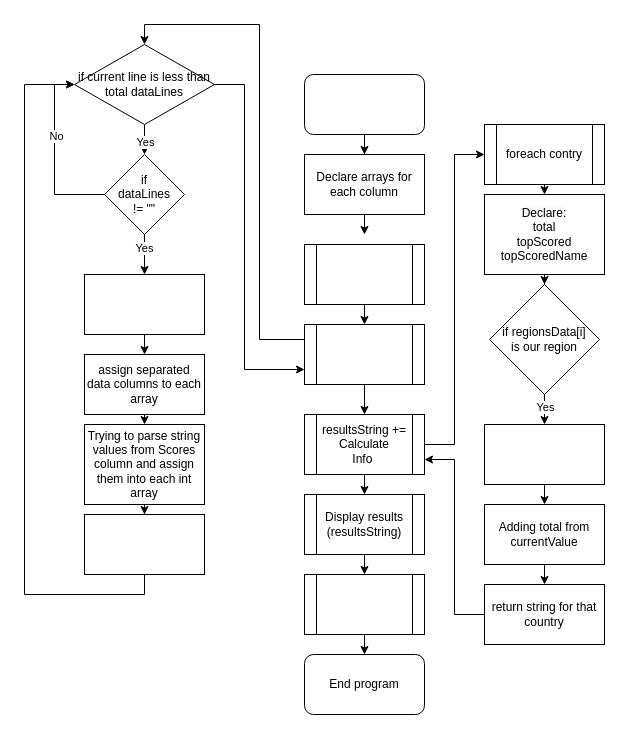
The diagram is 622 pixels wide and 732 high, and some of its shapes have lost their labels. The shapes that lost their labels are listed below. From the top down, each one's centre as x and y in pixels, then its label:
At (364,104): "Rugby Tournament Scores".
At (364,274): "Try to read a csv file".
At (144,304): "string[] separatedData".
At (364,354): "Extract data from the file and split into arrays".
At (544,454): "Declaring currentValue and adding all attendancy for all person".
At (144,544): "totalDataLines++;".
At (364,604): "Try to write resultsString to a file".
